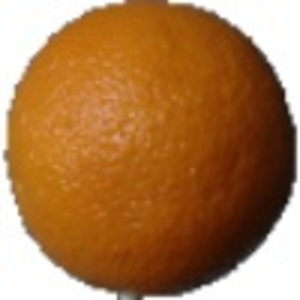laranja: (3, 3, 294, 294)
